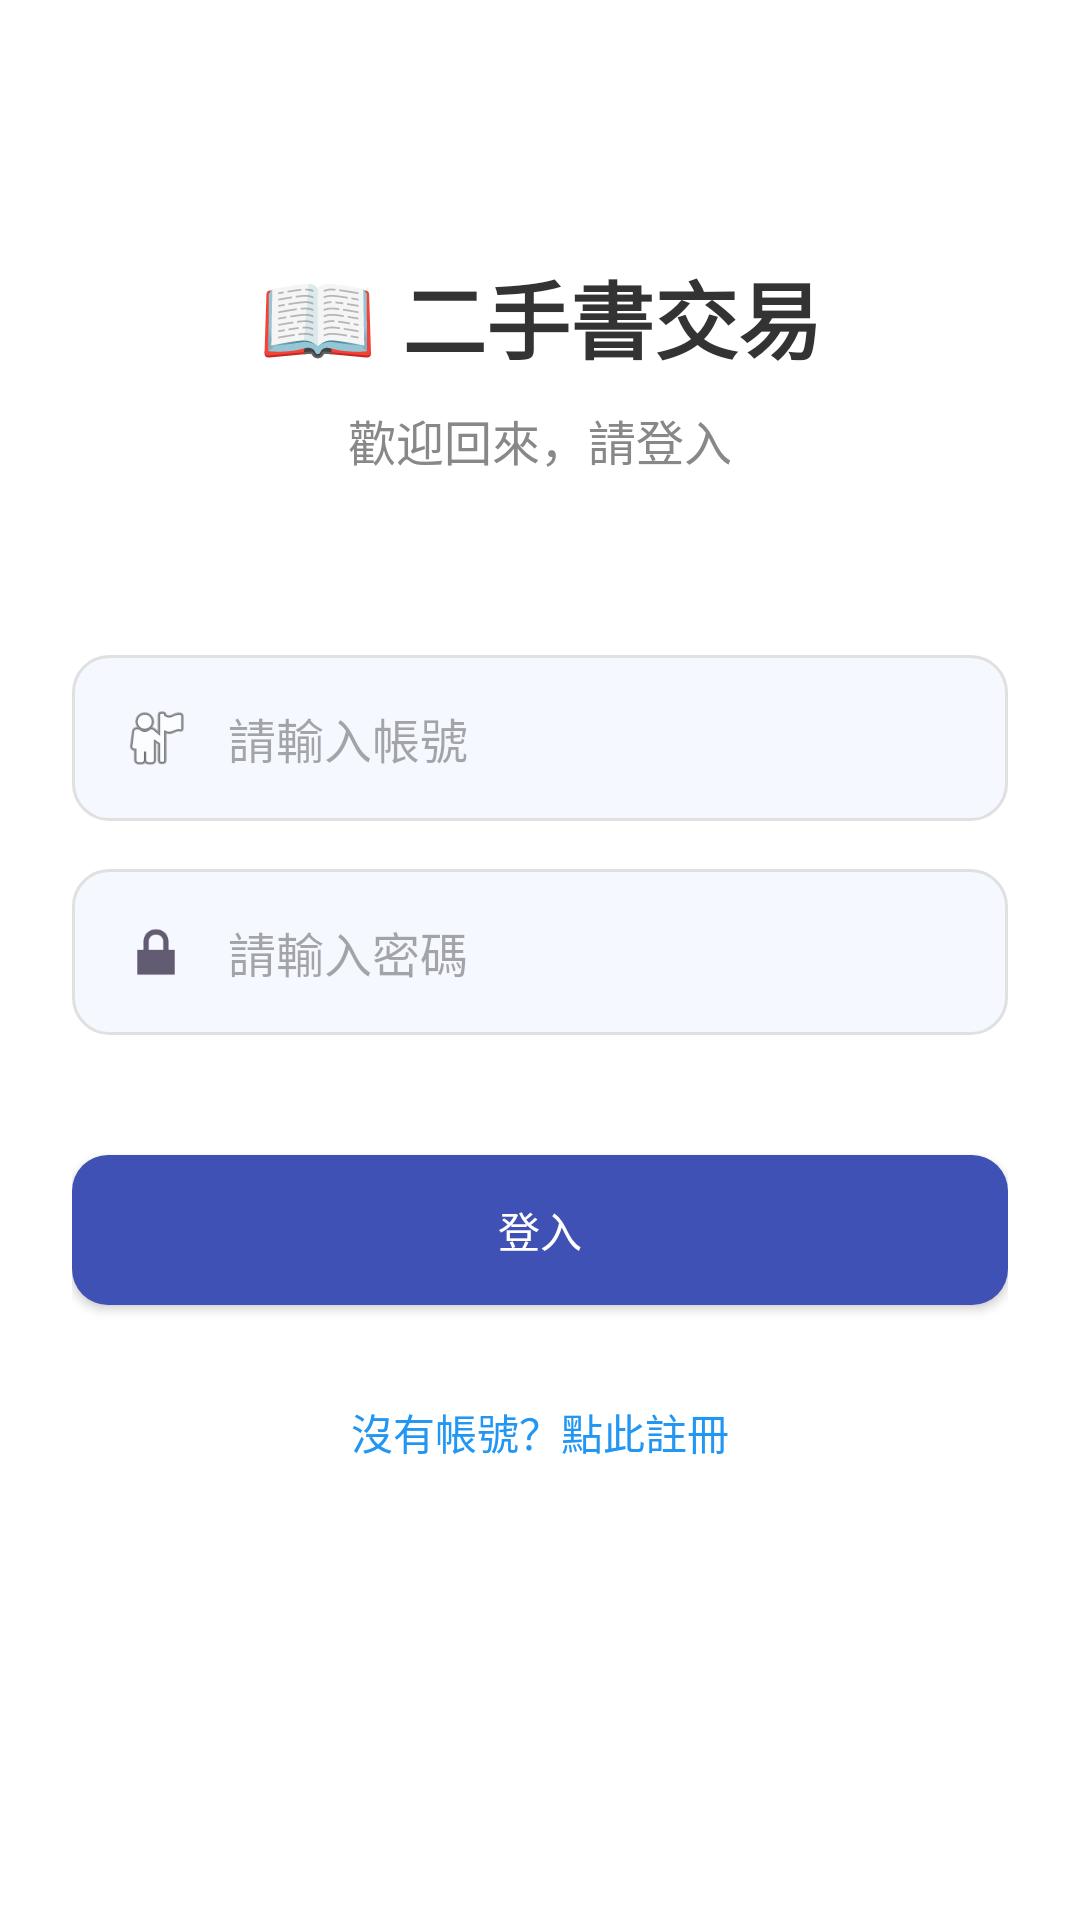

Where icons sit on this 1080*1920 app screen, as bbox=(x1, y1, x2, y2):
Pass Icon: bbox=(137, 929, 175, 975)
User Icon: bbox=(130, 711, 184, 765)
